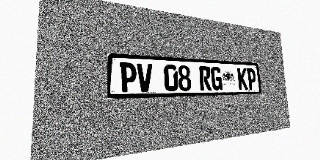0: (164, 64, 178, 91)
8: (178, 65, 191, 91)
G: (211, 66, 223, 90)
K: (237, 68, 248, 90)
P: (120, 62, 137, 92), (246, 68, 257, 90)
R: (199, 66, 212, 91)
V: (137, 63, 153, 92)
